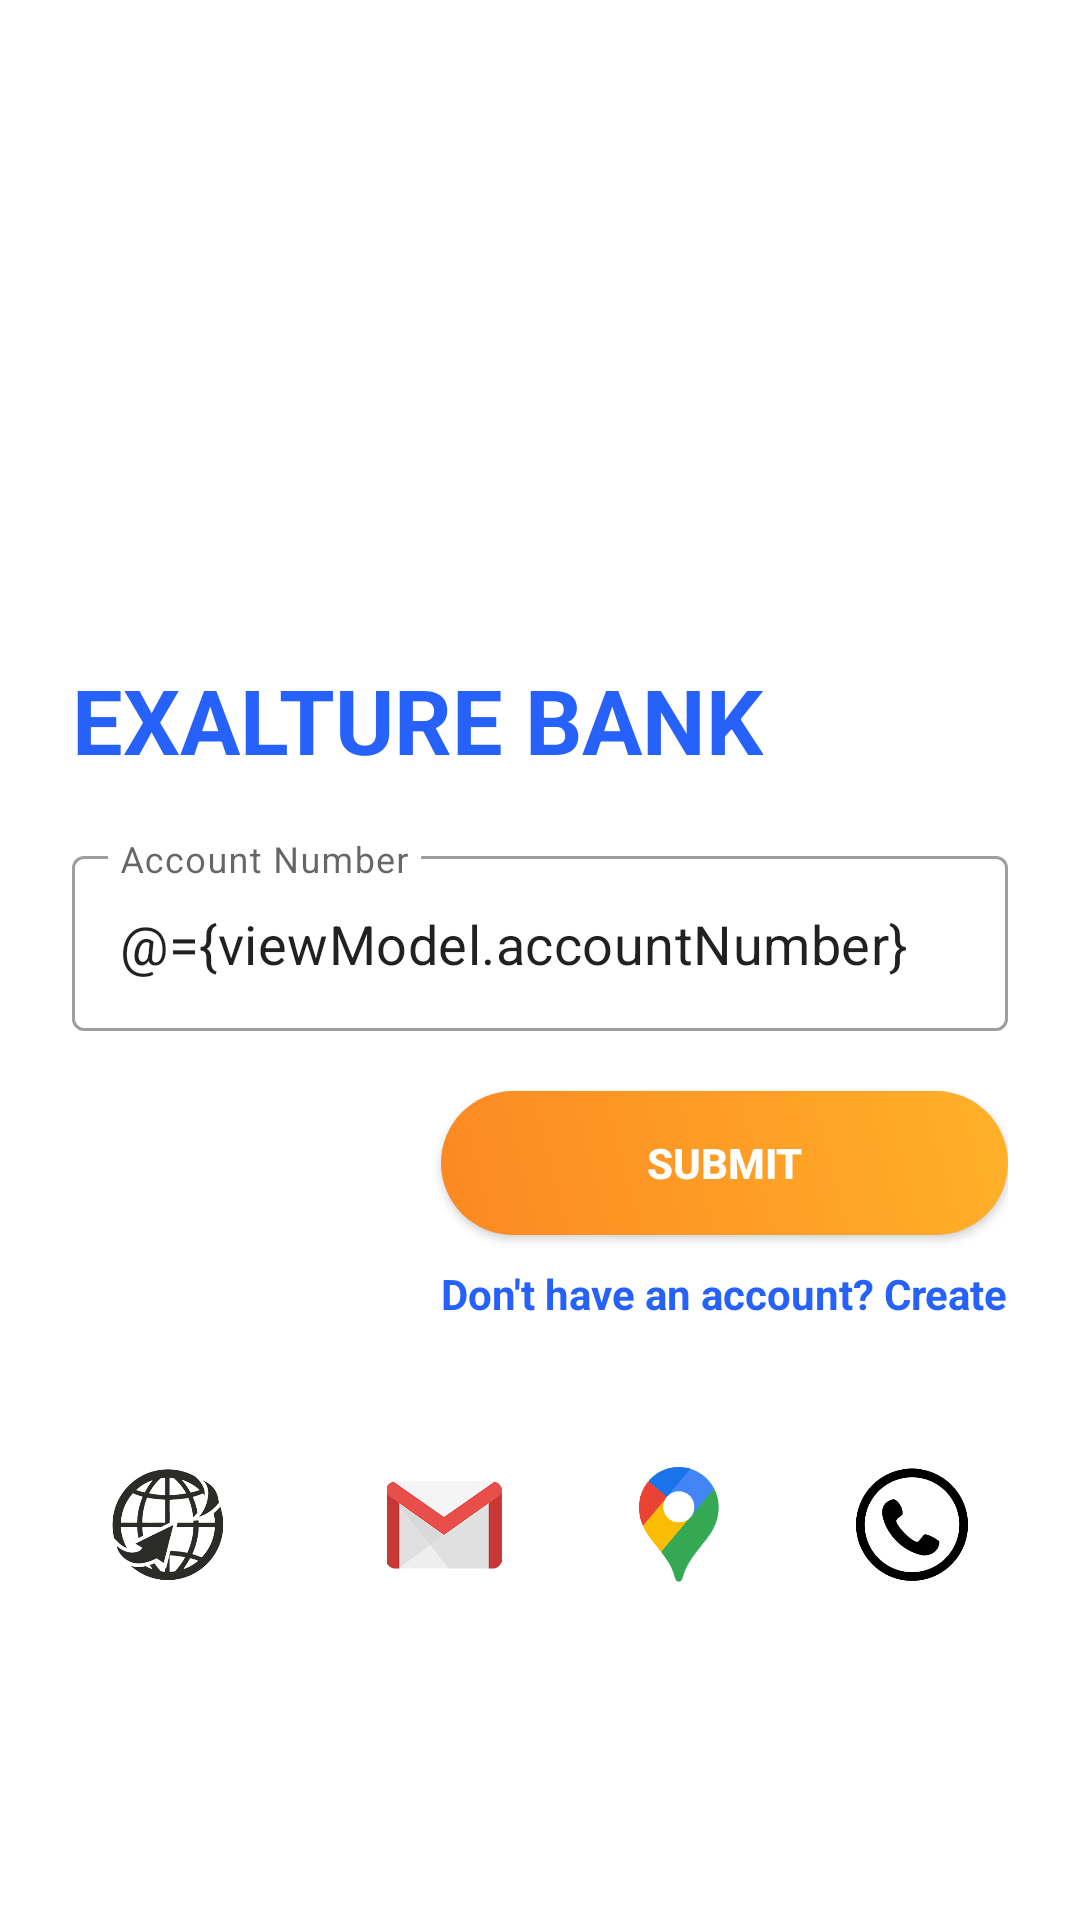

Screen size 1080 x 1920. Icon name, then its center in pixels as [x,y]:
call: [912,1524]
website: [167,1524]
